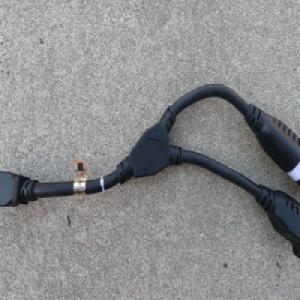Wire: (0, 82, 300, 259)
